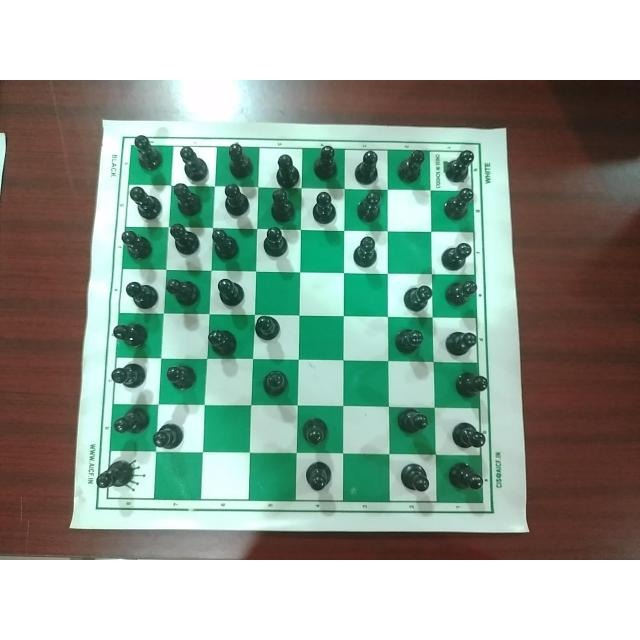black-pawn: (94, 457, 137, 493), (443, 459, 486, 495), (441, 146, 477, 184), (438, 187, 474, 225), (450, 415, 488, 451), (127, 185, 163, 221), (119, 227, 157, 261), (395, 460, 433, 494), (177, 142, 209, 182), (111, 318, 152, 349), (401, 280, 434, 318), (352, 186, 384, 225), (440, 234, 472, 273), (444, 325, 480, 359), (166, 275, 204, 307), (129, 134, 162, 170), (220, 182, 252, 219), (350, 148, 381, 186), (168, 221, 203, 254), (225, 141, 254, 180), (170, 182, 204, 215), (123, 277, 158, 309), (395, 150, 426, 186), (310, 188, 340, 225), (109, 362, 150, 389), (450, 370, 489, 398), (210, 227, 242, 261), (205, 324, 239, 356), (300, 413, 332, 447), (395, 403, 429, 435), (352, 235, 382, 271), (442, 278, 478, 308), (112, 407, 152, 434), (304, 457, 334, 493), (268, 187, 296, 225), (259, 365, 291, 398), (164, 362, 198, 393), (151, 422, 189, 449), (215, 276, 247, 308), (262, 226, 291, 261), (272, 152, 300, 188), (313, 145, 341, 181), (392, 325, 426, 353), (255, 314, 285, 343)
